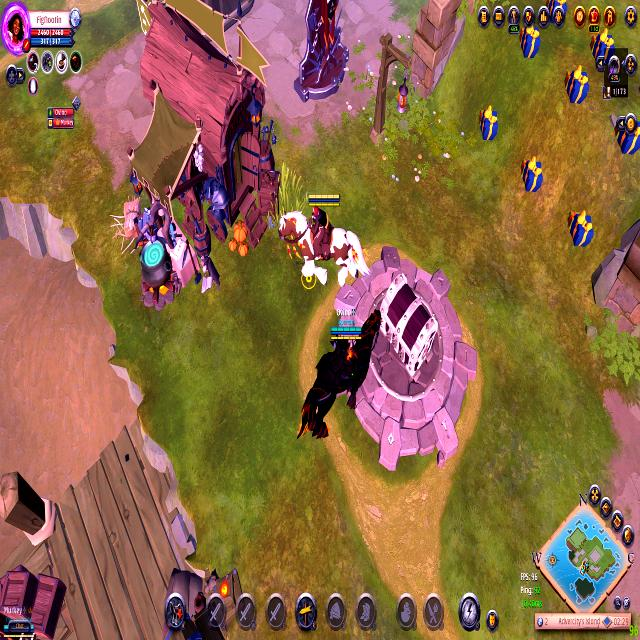red: (291, 306, 383, 450), (274, 190, 368, 292)
